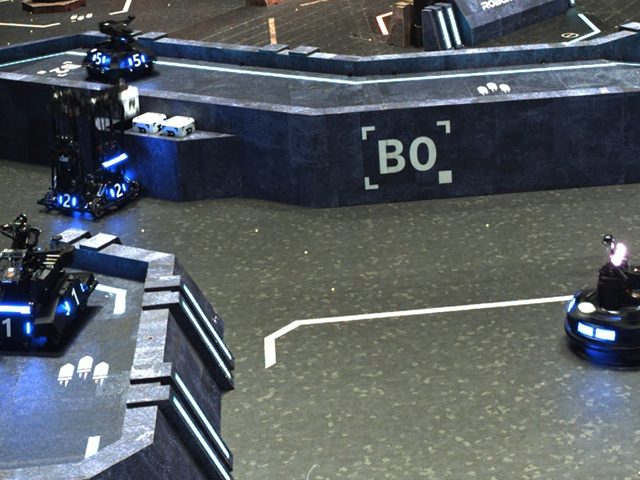rm: (37, 84, 143, 223), (0, 214, 89, 356), (560, 234, 640, 369), (86, 21, 155, 82)
